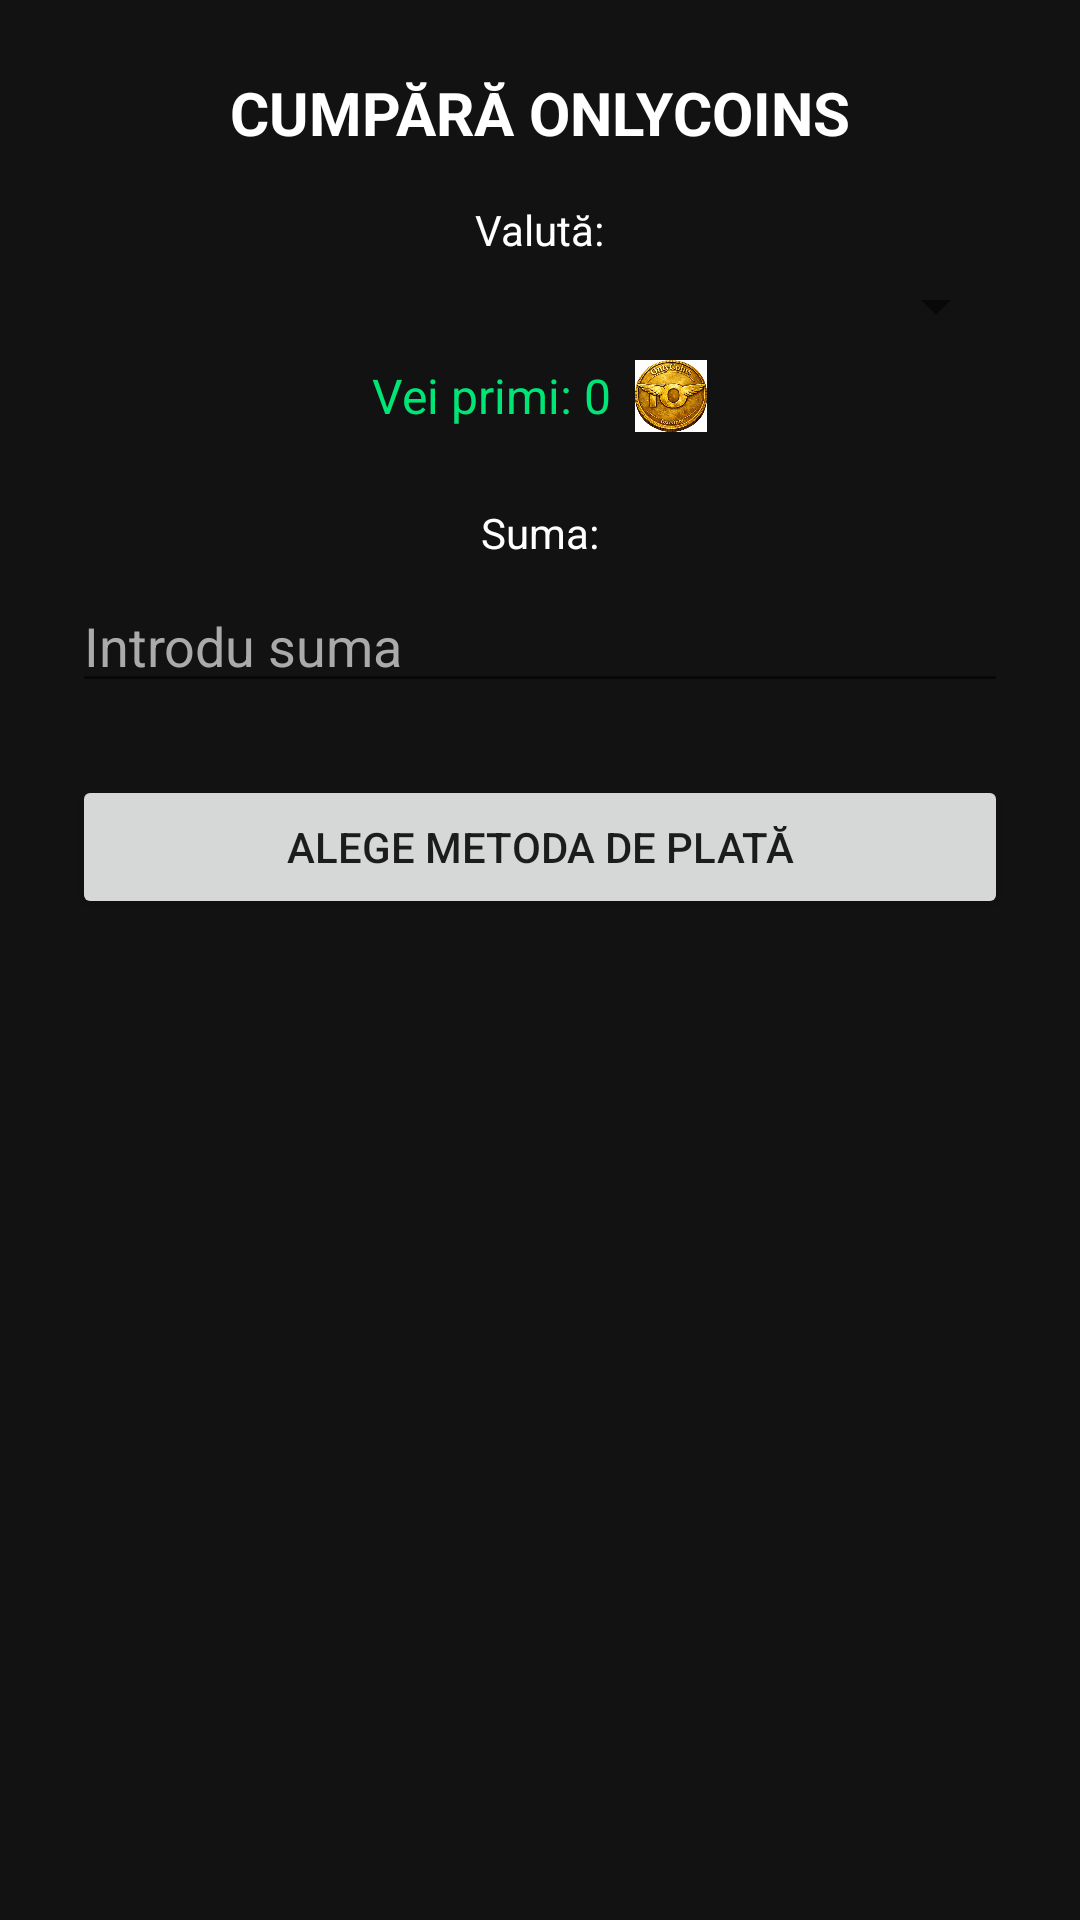

Icons on this 1080 × 1920 Android screen, each with the point to tap as (x,y):
onlycoin: (671,396)
